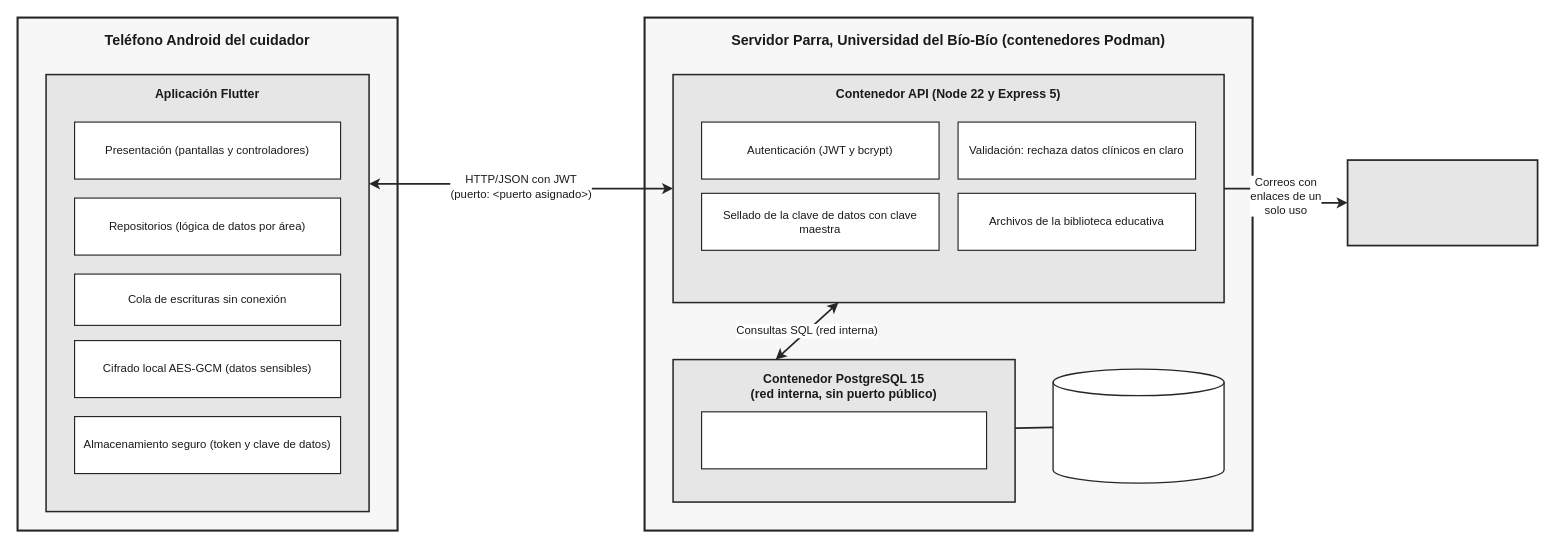
Some shapes in this 1554 by 548 pixel diagram are drawn without their labels. The centre of each missing label's shape, as x and y in pixels:
Esquema relacional y datos cifrados: the point at 844,440
Servicio SMTP (Gmail): the point at 1442,202
Volumen de datos: the point at 1138,425
